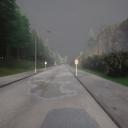speed_limit_90: (74, 59, 78, 64)
